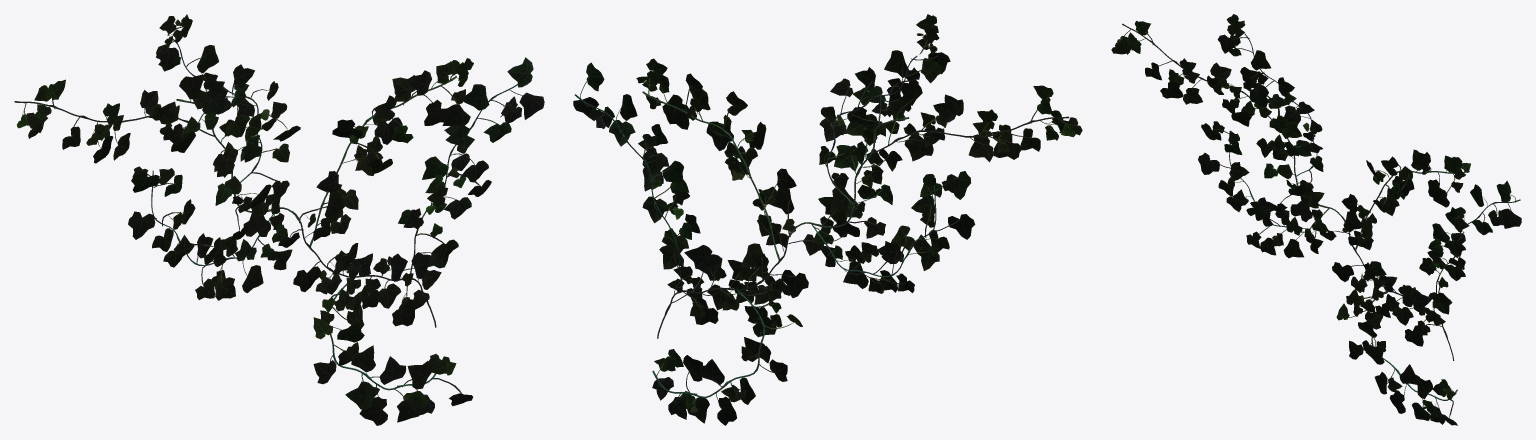
Rendered from vine1.glb.
3 views of the same model, side by side, from view 1: azimuth 30°, elevation 25°; view 2: azimuth 150°, elevation 25°; view 3: azimuth 330°, elevation 25° (orthographic). The views are drawn at different scales.
Parts seen in each view (by area): view 1: _epun_VarA_LOD1; view 2: _epun_VarA_LOD1; view 3: _epun_VarA_LOD1.
Boxes of the visible parts, x1,y1,x2,y2 form: _epun_VarA_LOD1: (14, 14, 544, 425); _epun_VarA_LOD1: (573, 14, 1082, 425); _epun_VarA_LOD1: (1111, 14, 1521, 425).
Bounding box in the file's own units: 0.8825 × 0.7569 × 0.0676.
Materials: 1 (1 with a texture image).
